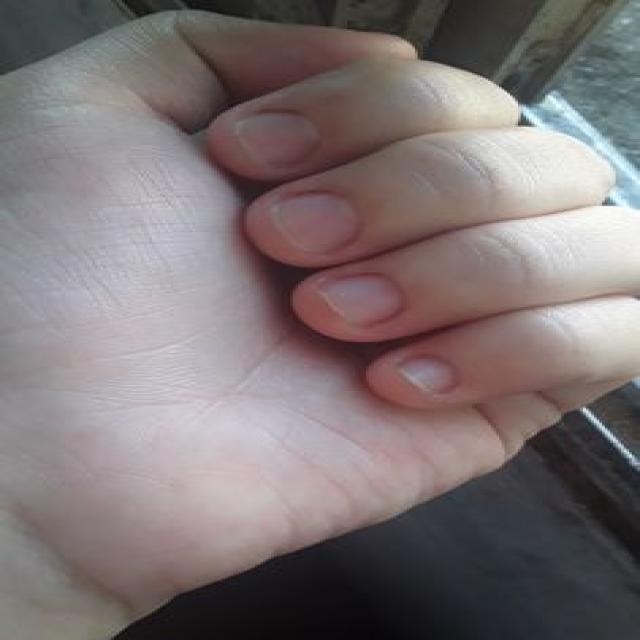Fingernail: (273, 192, 360, 253), (318, 274, 407, 325), (239, 112, 321, 165), (399, 356, 457, 394)
